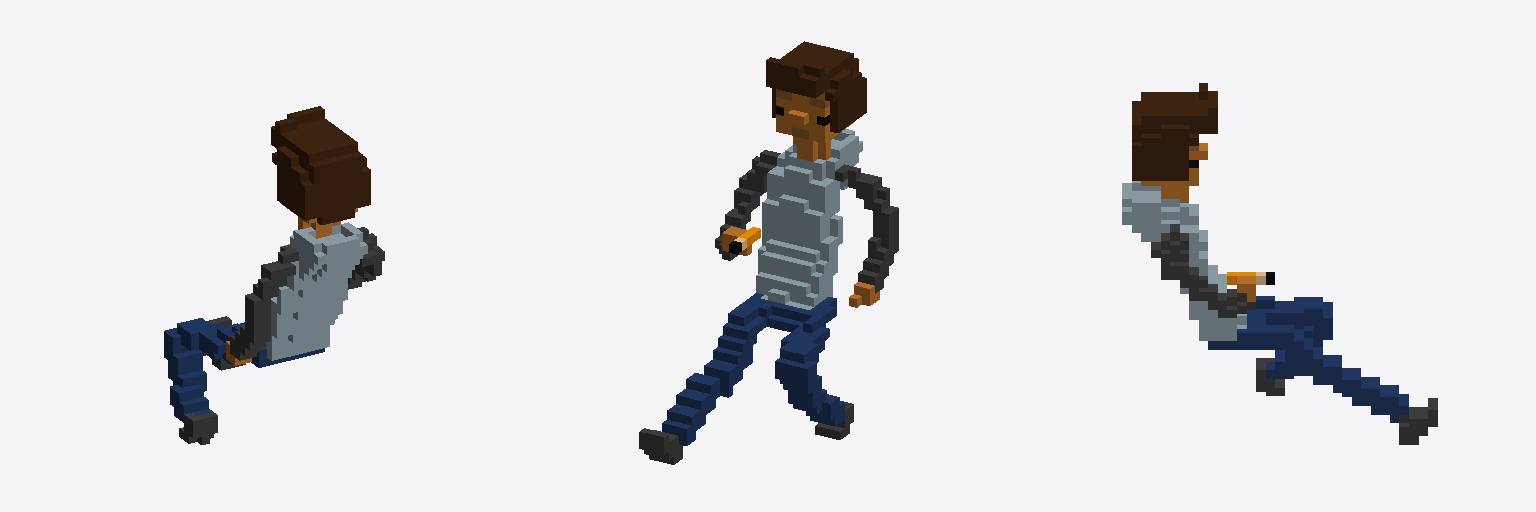
The picture shows the model from 3 angles: view 1: azimuth 30°, elevation 25°; view 2: azimuth 150°, elevation 25°; view 3: azimuth 270°, elevation 25°; orthographic projection.
Visible parts, largest first — view 1: object 1; view 2: object 1; view 3: object 1.
Boxes of the visible parts, <box> form: object 1: <box>164,106,384,444</box>; object 1: <box>639,41,898,464</box>; object 1: <box>1122,83,1437,444</box>.
Size of the model in its own units: 1.8 by 3.8 by 3.3.
Materials: 1 (1 with a texture image).